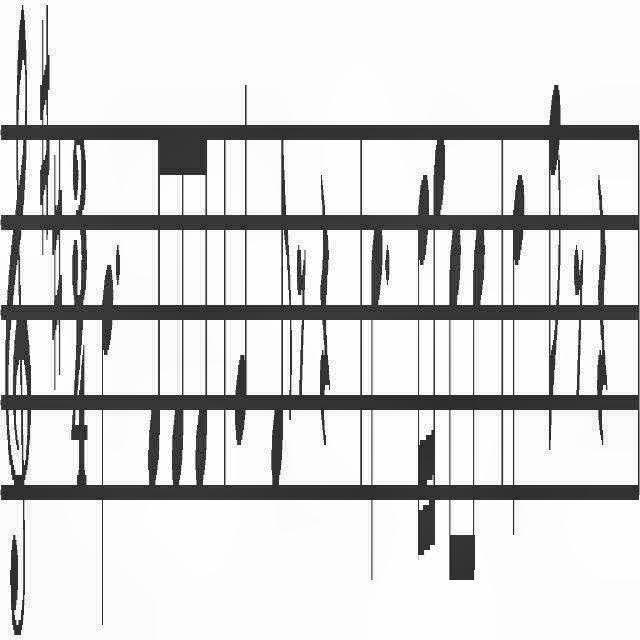Bass-clef: (4, 0, 32, 640)
Diez: (38, 7, 50, 254), (51, 136, 63, 382)
Eighth-note: (462, 215, 486, 601), (270, 130, 294, 507), (190, 109, 210, 495), (169, 117, 187, 503), (148, 109, 164, 497), (548, 76, 564, 462), (448, 212, 462, 596)
Eighth-rest: (296, 241, 306, 421), (573, 238, 583, 418)
Quarter-note: (232, 70, 250, 450), (98, 249, 114, 635), (511, 171, 525, 545), (371, 209, 383, 597)
Quarter-rest: (596, 170, 608, 456), (319, 160, 329, 456)
Sixteenth-note: (429, 130, 446, 594), (415, 171, 429, 577)
